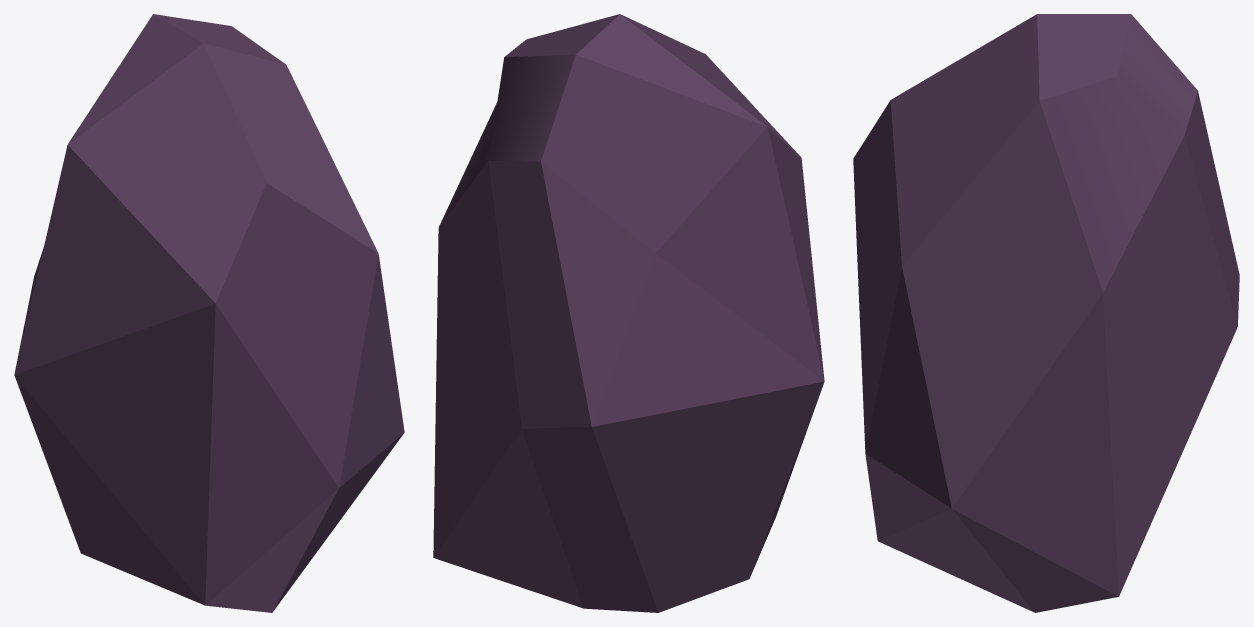
The model's file is Rock_Small.fbx.
3 renders of one model, left to right at view 1: azimuth 30°, elevation 25°; view 2: azimuth 150°, elevation 25°; view 3: azimuth 270°, elevation 25°, orthographic. The views are drawn at different scales.
Parts seen in each view (by area): view 1: pCube1; view 2: pCube1; view 3: pCube1.
Part boxes in pixels (x1,y1,x2,y2): pCube1: (14, 14, 404, 612); pCube1: (433, 14, 824, 612); pCube1: (853, 14, 1239, 612).
Size of the model in its own units: 0.8109 by 1.17 by 0.7516.
